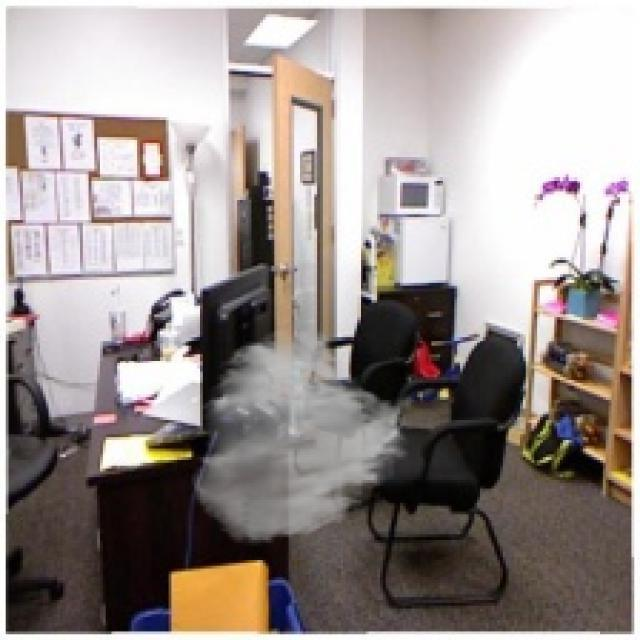Smoke: (188, 326, 418, 546)
